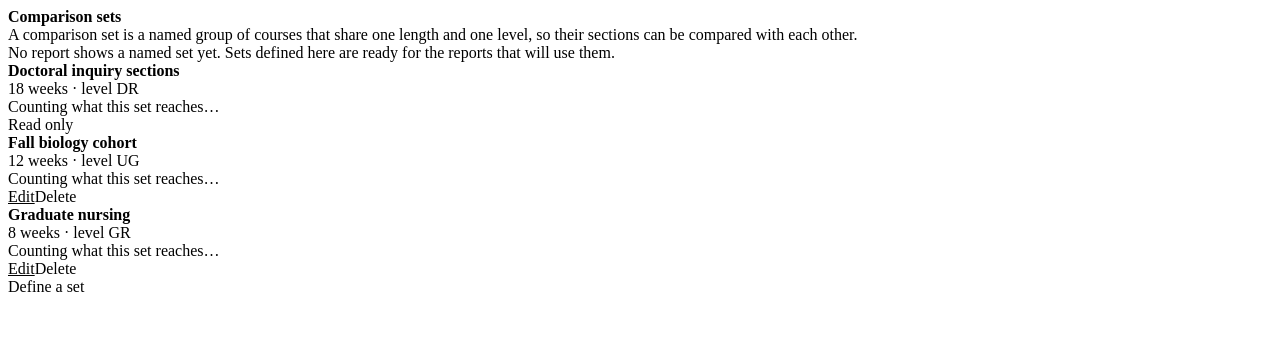
deleting a set › deletes the set the confirmation named, and reads the list again
Expected: the list with test id "pulse-leadership-set-list" is shown, [8,62,220,278]
Click the button "Delete" below "Fall biology cohort". click: (56, 197)
box: [35,188,76,206]
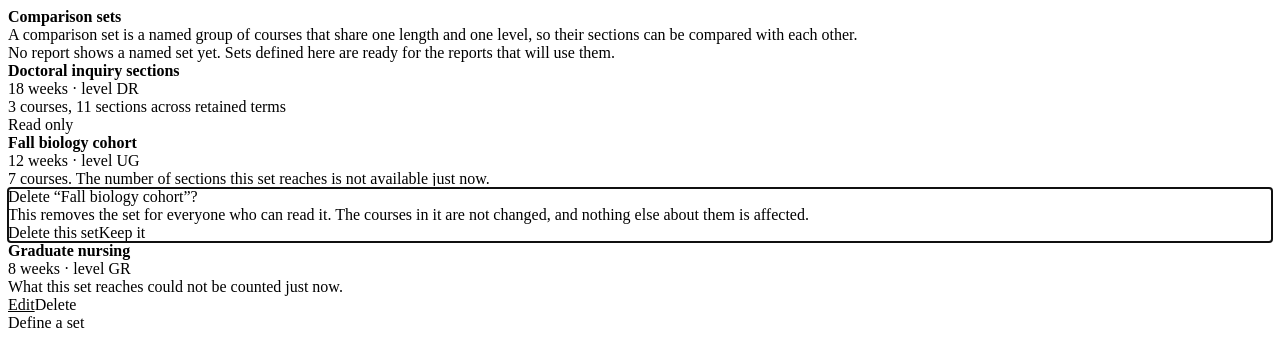
Click the button "Delete this set". click: (53, 233)
box: [8,224,99,242]
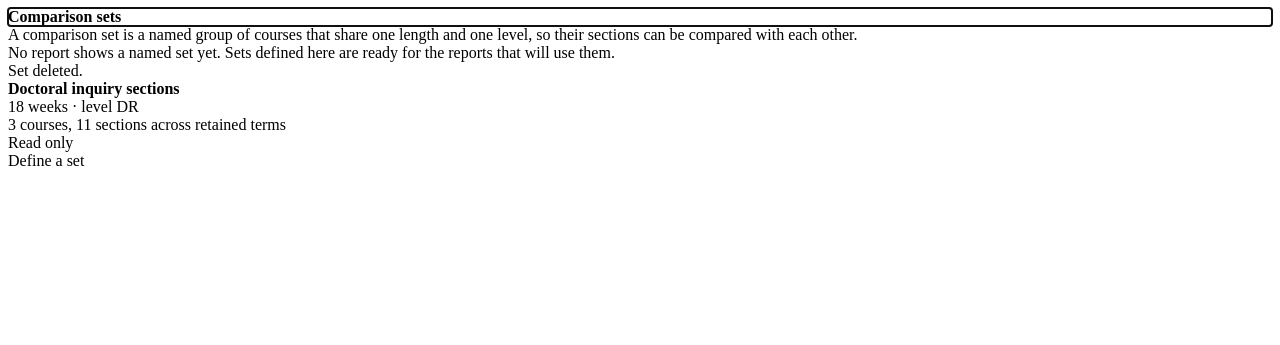
Result: the heading "Fall biology cohort" is gone
